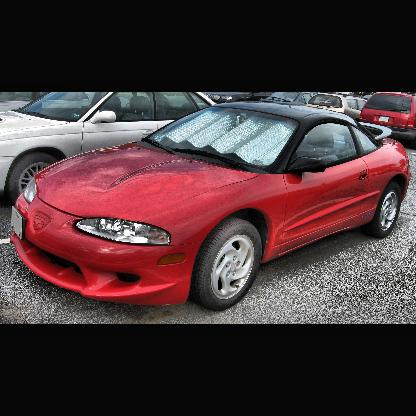Eagle Talon Hatchback 1998: (11, 104, 412, 310)
